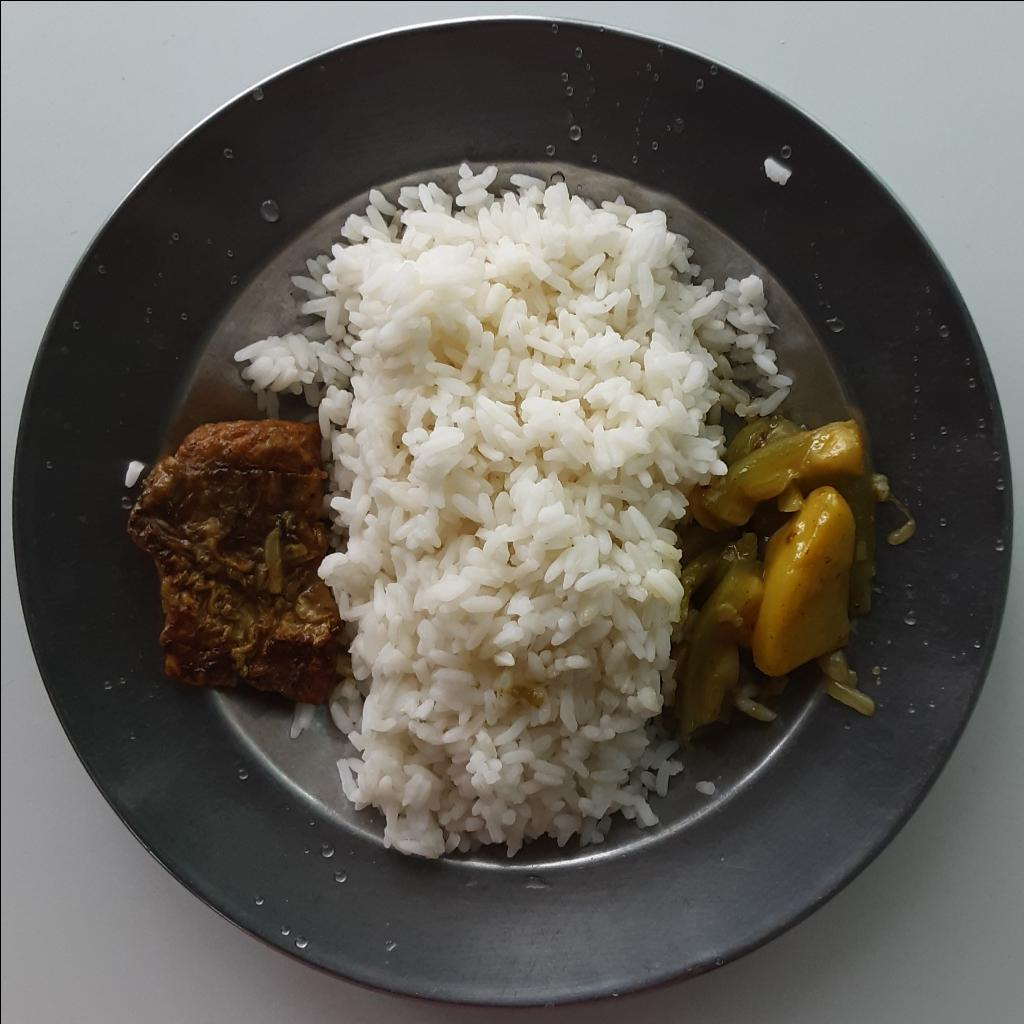chichinga-vaji: (666, 418, 817, 722), (821, 647, 874, 717)
fish: (118, 422, 354, 696)
potato: (749, 412, 873, 682)
rice: (233, 160, 797, 862)
